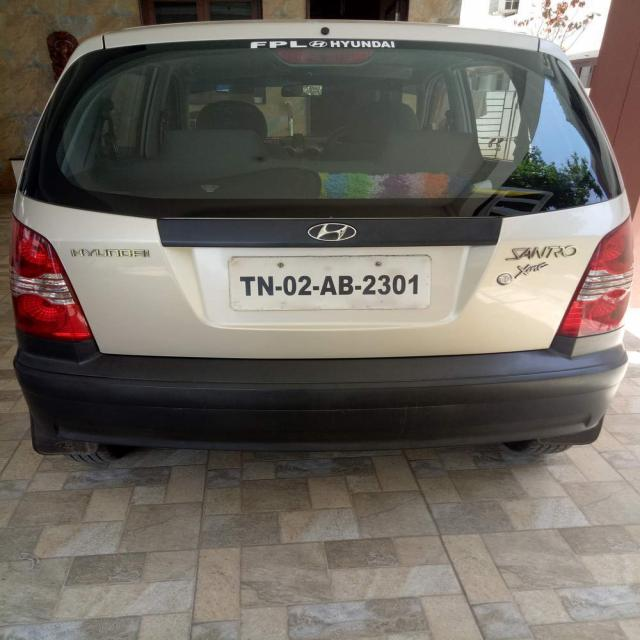Number-Plate: (232, 258, 428, 302)
